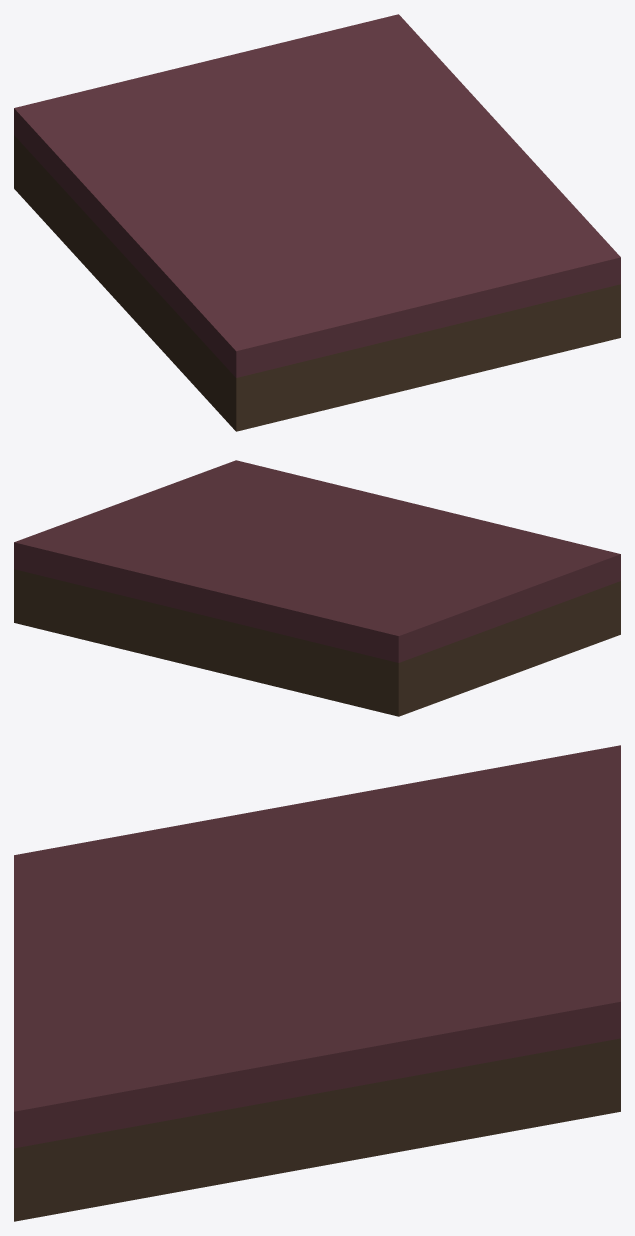
Rendered from tile-sidewalk-hill.fbx.
The picture shows the model from 3 angles, top to bottom: view 1: azimuth 30°, elevation 25°; view 2: azimuth 150°, elevation 25°; view 3: azimuth 270°, elevation 25°; orthographic projection. The views are drawn at different scales.
Parts seen in each view (by area): view 1: tile-sidewalk-hill; view 2: tile-sidewalk-hill; view 3: tile-sidewalk-hill.
Boxes of the visible parts, x1,y1,x2,y2 form: tile-sidewalk-hill: (14, 14, 620, 431); tile-sidewalk-hill: (14, 460, 620, 716); tile-sidewalk-hill: (14, 745, 620, 1221).
Bounding box in the file's own units: 30 × 12 × 30.
